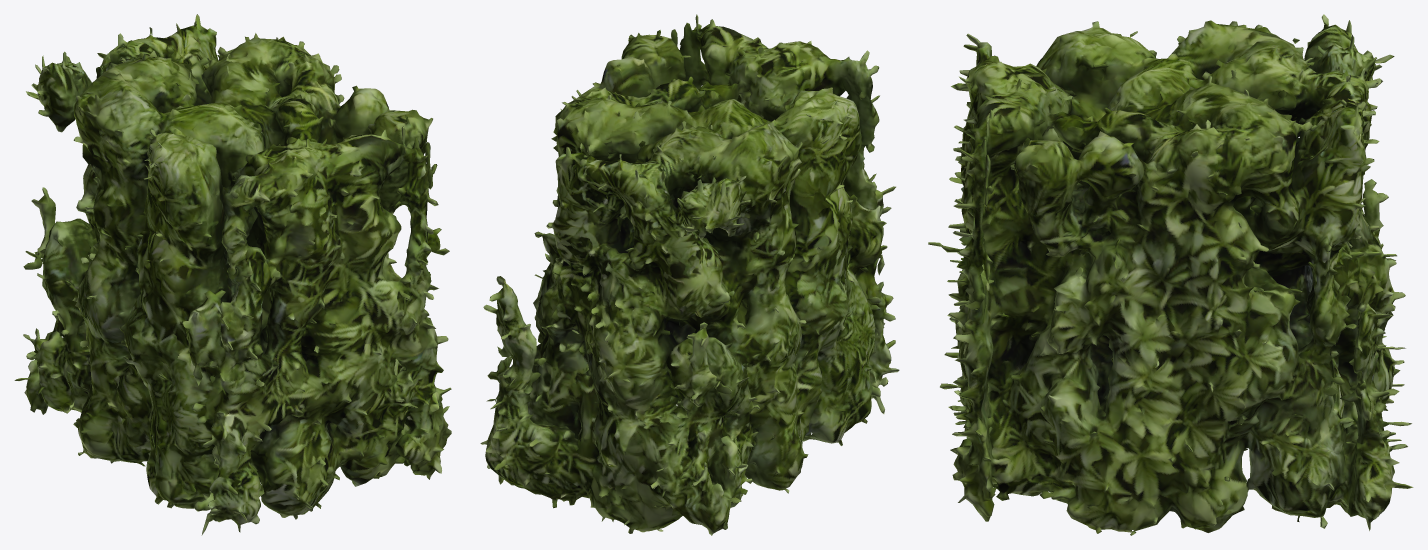
Rendered from nature-bush-boxwood.glb.
3 renders of one model, left to right at view 1: azimuth 30°, elevation 25°; view 2: azimuth 150°, elevation 25°; view 3: azimuth 270°, elevation 25°, orthographic. The views are drawn at different scales.
Visible parts, largest first — view 1: tripo_node_cb504715-ce40-4863-88e0-fae61f0659ca; view 2: tripo_node_cb504715-ce40-4863-88e0-fae61f0659ca; view 3: tripo_node_cb504715-ce40-4863-88e0-fae61f0659ca.
Boxes of the visible parts, x1,y1,x2,y2 form: tripo_node_cb504715-ce40-4863-88e0-fae61f0659ca: (14,14,451,535); tripo_node_cb504715-ce40-4863-88e0-fae61f0659ca: (480,14,899,535); tripo_node_cb504715-ce40-4863-88e0-fae61f0659ca: (928,14,1413,535).
Size of the model in its own units: 0.7204 by 1 by 1.02.
Materials: 1 (1 with a texture image).
